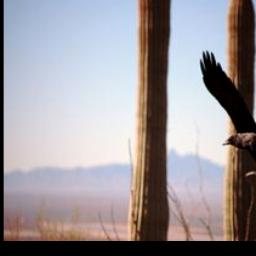Crow: (197, 48, 256, 207)
